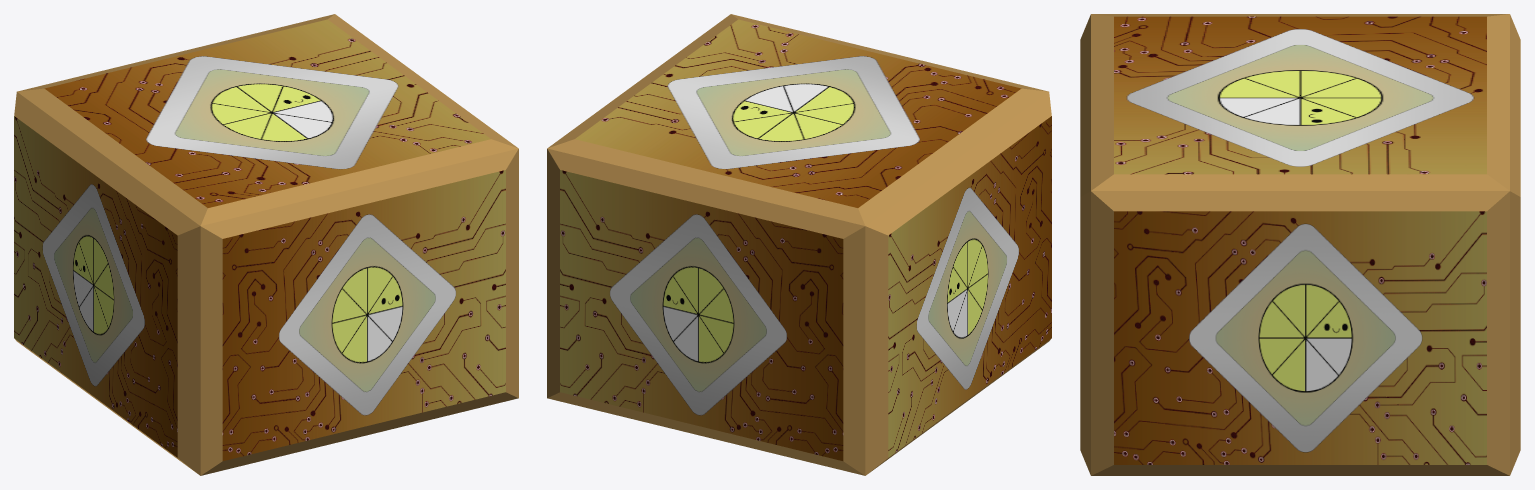
The picture shows the model from 3 angles, left to right: view 1: azimuth 30°, elevation 25°; view 2: azimuth 150°, elevation 25°; view 3: azimuth 270°, elevation 25°; orthographic projection. The views are drawn at different scales.
Visible parts, largest first — view 1: 6/8; view 2: 6/8; view 3: 6/8.
Part boxes in pixels (left/top/right/bottom): 6/8: left=14, top=14, right=518, bottom=475; 6/8: left=547, top=14, right=1051, bottom=475; 6/8: left=1080, top=14, right=1520, bottom=475.
Bounding box in the file's own units: 213 × 158 × 210.
2 materials, 1 textured.
